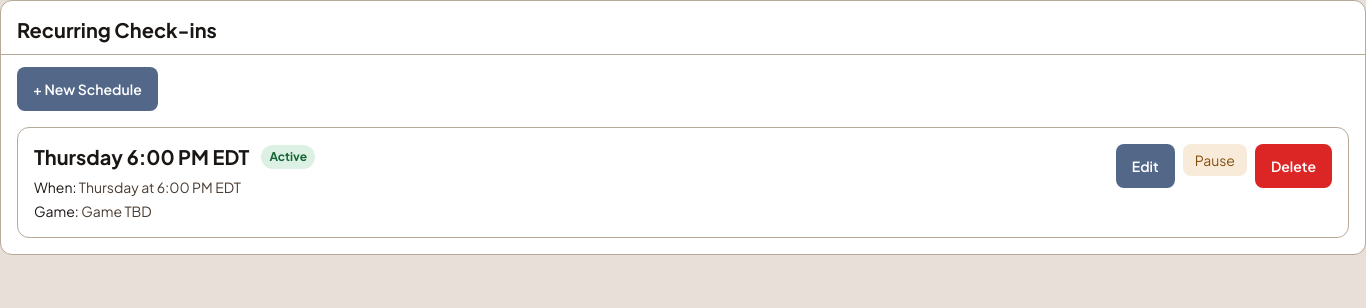
Scenario: PromptScheduleManager — the cached list survives a failed refresh under RF1; one toggle per press (88.6.1-30, AC-29 / Req 4) › M1. a failed refresh after Pause keeps the schedule, Pause and + New Schedule under RF1 (C8 a, b)
The width and height of the screenshot is (1366, 308).
Click the button "Pause" at (1215, 160), box [1183,144,1247,176]
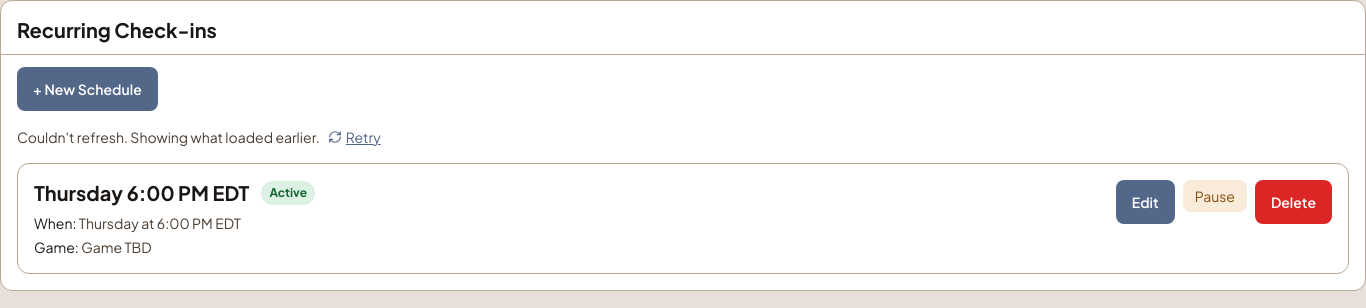
expect the button "Pause" is shown: met, box [1183,180,1247,212]
expect the text "Couldn't refresh. Showing what loaded earlier." is shown once: met, box [17,128,320,146]
